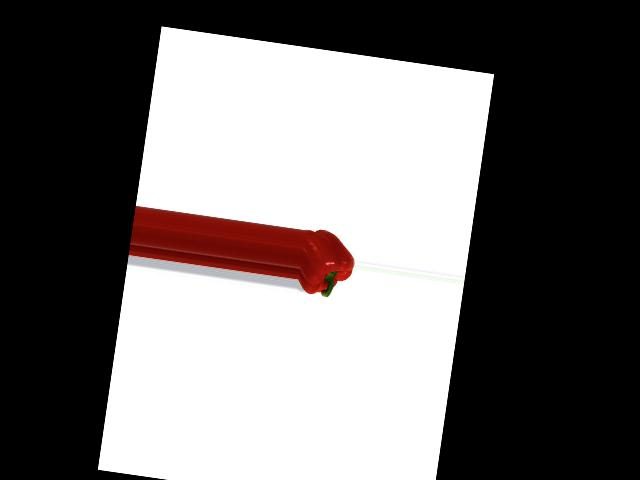bell_pepper: (294, 220, 359, 309)
